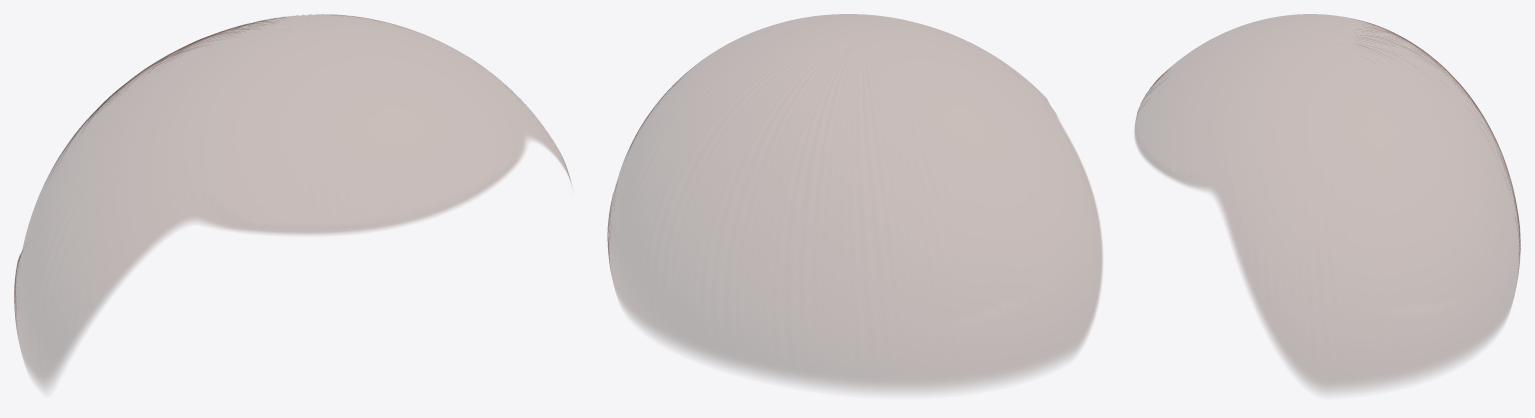
Rendered from Highlights-9e260947a864252-hair.glb.
3 views of the same model, side by side, from view 1: azimuth 30°, elevation 25°; view 2: azimuth 150°, elevation 25°; view 3: azimuth 270°, elevation 25° (orthographic). The views are drawn at different scales.
Parts seen in each view (by area): view 1: 226 hair / Hair252 / buzz edge.001; view 2: 226 hair / Hair252 / buzz edge.001; view 3: 226 hair / Hair252 / buzz edge.001.
Part boxes in pixels (x1,y1,x2,y2): 226 hair / Hair252 / buzz edge.001: [14, 14, 571, 388]; 226 hair / Hair252 / buzz edge.001: [607, 14, 1102, 391]; 226 hair / Hair252 / buzz edge.001: [1134, 14, 1520, 391].
Bounding box in the file's own units: 0.9886 × 0.572 × 0.761.
Materials: 1 (1 with a texture image).
